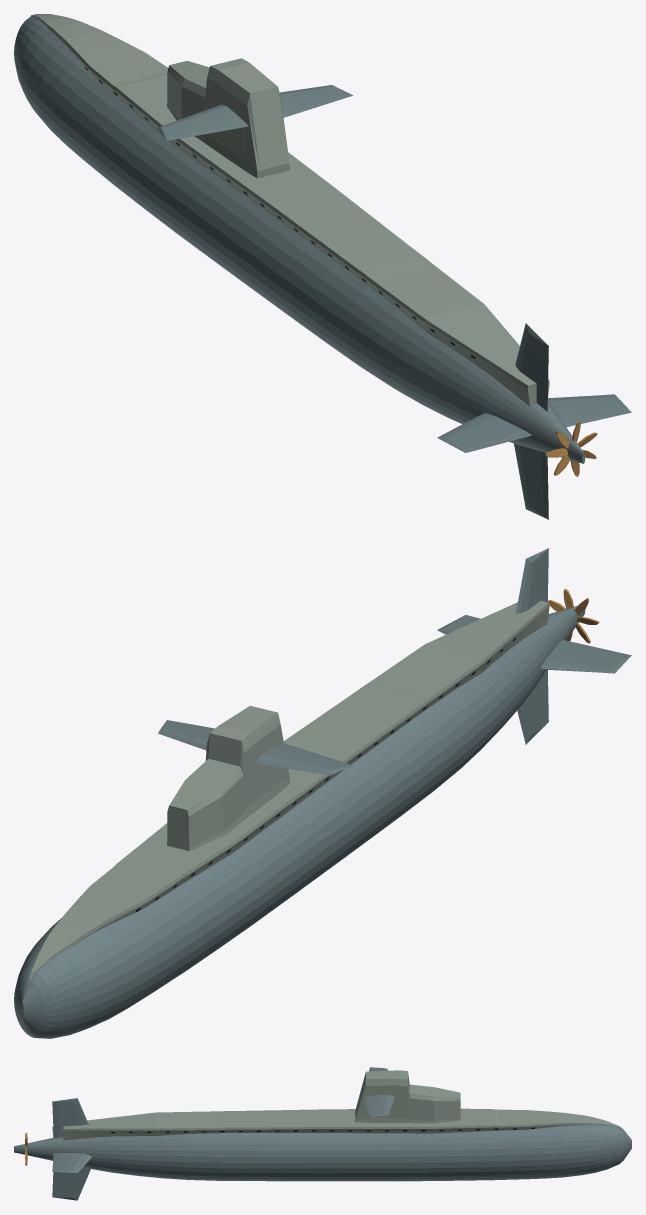
Rendered from archive-type-039-original.glb.
3 renders of one model, top to bottom at view 1: azimuth 30°, elevation 25°; view 2: azimuth 150°, elevation 25°; view 3: azimuth 270°, elevation 25°, orthographic. The views are drawn at different scales.
Parts seen in each view (by area): view 1: archive-type-039-original-pressure_hull.005-geometry, archive-type-039-original-cruise_deck.004-geometry, archive-type-039-original-submarine_sail.005-geometry, archive-type-039-original-stern_rudder_2.004-geometry, archive-type-039-original-stern_rudder_1.004-geometry, archive-type-039-original-stern_rudder_0.004-geometry, archive-type-039-original-diving_plane_-1.005-geometry, archive-type-039-original-stern_rudder_3.004-geometry, archive-type-039-original-diving_plane_1.005-geometry, archive-type-039-original-screw_0.005-geometry; view 2: archive-type-039-original-pressure_hull.005-geometry, archive-type-039-original-cruise_deck.004-geometry, archive-type-039-original-submarine_sail.005-geometry, archive-type-039-original-stern_rudder_2.004-geometry, archive-type-039-original-diving_plane_-1.005-geometry, archive-type-039-original-stern_rudder_3.004-geometry, archive-type-039-original-stern_rudder_1.004-geometry, archive-type-039-original-diving_plane_1.005-geometry, archive-type-039-original-screw_0.005-geometry; view 3: archive-type-039-original-pressure_hull.005-geometry, archive-type-039-original-cruise_deck.004-geometry, archive-type-039-original-submarine_sail.005-geometry, archive-type-039-original-stern_rudder_3.004-geometry, archive-type-039-original-stern_rudder_1.004-geometry, archive-type-039-original-stern_rudder_0.004-geometry, archive-type-039-original-diving_plane_1.005-geometry.
Boxes of the visible parts, left/top/right/bottom form: archive-type-039-original-pressure_hull.005-geometry: left=14, top=16, right=585, bottom=463; archive-type-039-original-cruise_deck.004-geometry: left=30, top=14, right=549, bottom=406; archive-type-039-original-submarine_sail.005-geometry: left=167, top=58, right=289, bottom=178; archive-type-039-original-stern_rudder_2.004-geometry: left=437, top=413, right=532, bottom=452; archive-type-039-original-stern_rudder_1.004-geometry: left=514, top=443, right=548, bottom=519; archive-type-039-original-stern_rudder_0.004-geometry: left=548, top=394, right=631, bottom=427; archive-type-039-original-diving_plane_-1.005-geometry: left=158, top=104, right=248, bottom=140; archive-type-039-original-stern_rudder_3.004-geometry: left=515, top=323, right=548, bottom=411; archive-type-039-original-diving_plane_1.005-geometry: left=279, top=85, right=353, bottom=117; archive-type-039-original-screw_0.005-geometry: left=545, top=421, right=597, bottom=476; archive-type-039-original-pressure_hull.005-geometry: left=14, top=605, right=585, bottom=1038; archive-type-039-original-cruise_deck.004-geometry: left=28, top=600, right=549, bottom=983; archive-type-039-original-submarine_sail.005-geometry: left=167, top=705, right=289, bottom=850; archive-type-039-original-stern_rudder_2.004-geometry: left=541, top=639, right=631, bottom=673; archive-type-039-original-diving_plane_-1.005-geometry: left=256, top=742, right=353, bottom=775; archive-type-039-original-stern_rudder_3.004-geometry: left=516, top=548, right=548, bottom=613; archive-type-039-original-stern_rudder_1.004-geometry: left=517, top=669, right=548, bottom=744; archive-type-039-original-diving_plane_1.005-geometry: left=158, top=720, right=214, bottom=750; archive-type-039-original-screw_0.005-geometry: left=548, top=588, right=599, bottom=643; archive-type-039-original-pressure_hull.005-geometry: left=14, top=1125, right=631, bottom=1181; archive-type-039-original-cruise_deck.004-geometry: left=63, top=1108, right=625, bottom=1140; archive-type-039-original-submarine_sail.005-geometry: left=355, top=1070, right=460, bottom=1123; archive-type-039-original-stern_rudder_3.004-geometry: left=52, top=1098, right=88, bottom=1138; archive-type-039-original-stern_rudder_1.004-geometry: left=52, top=1167, right=90, bottom=1200; archive-type-039-original-stern_rudder_0.004-geometry: left=52, top=1153, right=91, bottom=1173; archive-type-039-original-diving_plane_1.005-geometry: left=364, top=1094, right=394, bottom=1117.
Size of the model in its own units: 1.92 by 2.25 by 10.
